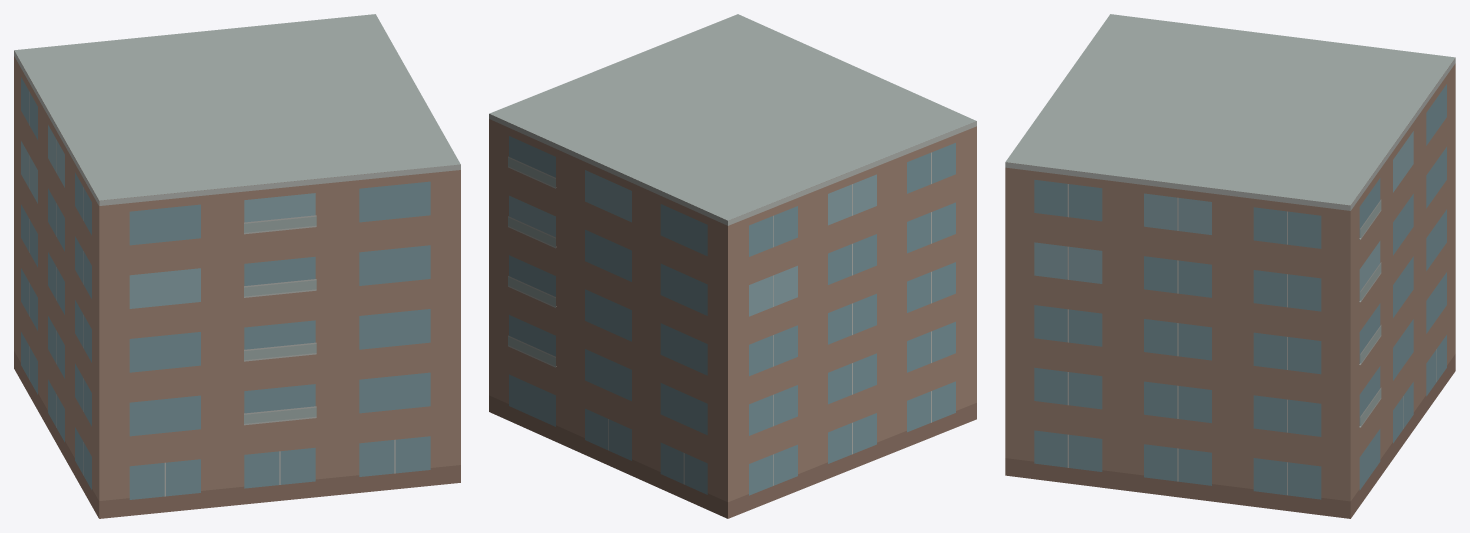
Rendered from survey-upis-32788795.glb.
3 renders of one model, left to right at view 1: azimuth 30°, elevation 25°; view 2: azimuth 150°, elevation 25°; view 3: azimuth 270°, elevation 25°, orthographic. The views are drawn at different scales.
Visible parts, largest first — view 1: survey-upis-32788795.tmp; view 2: survey-upis-32788795.tmp; view 3: survey-upis-32788795.tmp.
Boxes of the visible parts, x1,y1,x2,y2 form: survey-upis-32788795.tmp: [14, 14, 460, 518]; survey-upis-32788795.tmp: [489, 14, 976, 518]; survey-upis-32788795.tmp: [1005, 14, 1455, 518].
Bounding box in the file's own units: 18.36 × 14 × 18.25.
